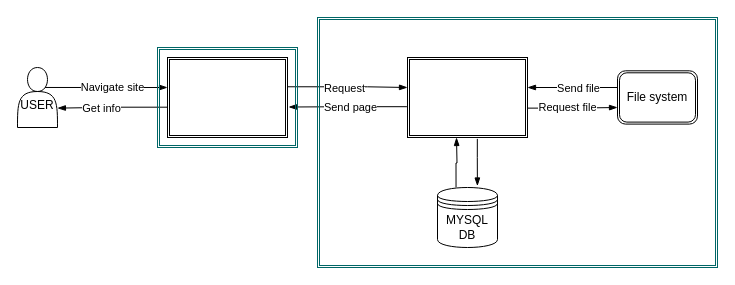
The diagram is 735 pixels wide and 285 high, and some of its shapes have lost their labels. Each missing label, with the centre of its shape:
"Browser" goes at point (227, 97).
"Laravel Framework" goes at point (467, 97).
